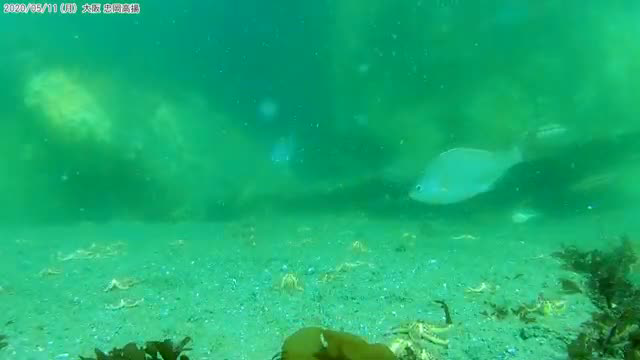smallfish: (403, 136, 542, 209)
